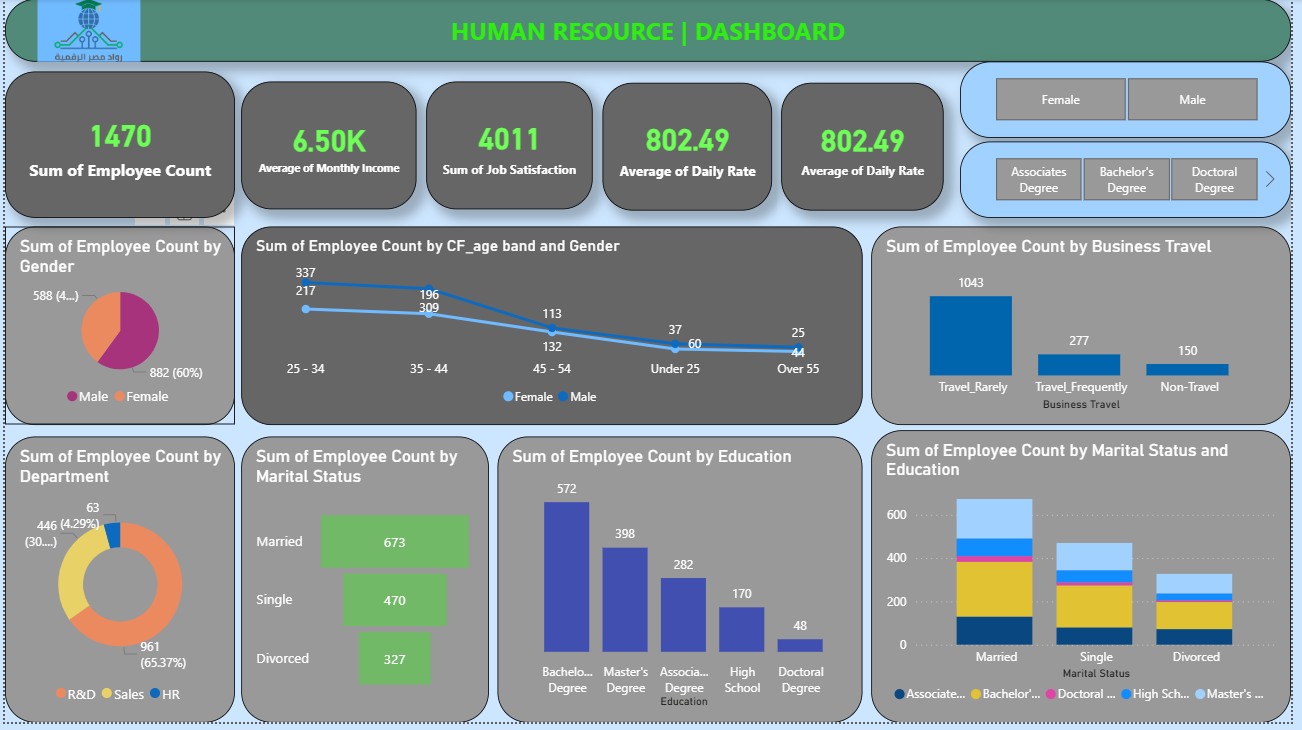

This screenshot's page, from the dashboard's own definition file:
{"tool":"powerbi","page":{"name":"dashbord2","canvas":[1280,720],"ordinal":1},"visuals":[{"type":"pieChart","fields":{"Category":["HR.Gender"],"Y":["Sum(HR.Employee Count)"]},"box":[0,226.4,228.9,197.8],"z":0},{"type":"donutChart","fields":{"Y":["Sum(HR.Employee Count)"],"Category":["HR.Department"]},"box":[0,435.4,228.9,284.9],"z":1000},{"type":"textbox","box":[0,0,1280,62],"z":2000},{"type":"card","fields":{"Values":["Sum(HR.Employee Count)"]},"box":[0,72.1,228.9,145.5],"z":3000},{"type":"card","fields":{"Values":["Avg(HR.Monthly Income)"]},"box":[235.1,82.1,174.2,126.9],"z":4000},{"type":"card","fields":{"Values":["Sum(HR.Job Satisfaction)"]},"box":[419.2,82.1,165.4,126.9],"z":5000},{"type":"card","fields":{"Values":["Avg(HR.Daily Rate)"]},"box":[594.1,82.8,169.2,126.9],"z":6000},{"type":"card","fields":{"Values":["Avg(HR.Daily Rate)"]},"box":[772,82.8,161.7,126.9],"z":7000},{"type":"lineChart","fields":{"Category":["HR.CF_age band"],"Series":["HR.Gender"],"Y":["Sum(HR.Employee Count)"]},"box":[235.1,226.4,618.2,197.8],"z":8000},{"type":"funnel","fields":{"Category":["HR.Marital Status"],"Y":["Sum(HR.Employee Count)"]},"box":[235.1,435.4,246.3,284.9],"z":9000},{"type":"columnChart","fields":{"Category":["HR.Education"],"Y":["Sum(HR.Employee Count)"]},"box":[490.1,435.4,363.2,284.9],"z":10000},{"type":"columnChart","fields":{"Y":["Sum(HR.Employee Count)"],"Category":["HR.Business Travel"]},"box":[862.1,226.4,418,197.8],"z":11000},{"type":"columnChart","fields":{"Y":["Sum(HR.Employee Count)"],"Category":["HR.Marital Status"],"Series":["HR.Education"]},"box":[862,429.4,418,291],"z":12000},{"type":"slicer","fields":{"Values":["HR.Gender"]},"box":[950.4,62.2,329.6,75.9],"z":13000},{"type":"slicer","fields":{"Values":["HR.Education"]},"box":[950.4,141.8,329.6,75.9],"z":14000},{"type":"image","box":[32.3,0,102,62.2],"z":15000}]}

Visuals, with their boxes in screenshot pixels (x1, y1, x2, y2), scaled from the page's 1280x720 canvas onto the 1302x730 screenshot:
pieChart - HR.Gender x Sum(HR.Employee Count): pyautogui.locateOnScreen(0, 230, 233, 430)
donutChart - Sum(HR.Employee Count) x HR.Department: pyautogui.locateOnScreen(0, 441, 233, 729)
textbox: pyautogui.locateOnScreen(0, 0, 1301, 63)
card - Sum(HR.Employee Count): pyautogui.locateOnScreen(0, 73, 233, 221)
card - Avg(HR.Monthly Income): pyautogui.locateOnScreen(239, 83, 416, 212)
card - Sum(HR.Job Satisfaction): pyautogui.locateOnScreen(426, 83, 595, 212)
card - Avg(HR.Daily Rate): pyautogui.locateOnScreen(604, 84, 776, 213)
card - Avg(HR.Daily Rate): pyautogui.locateOnScreen(785, 84, 950, 213)
lineChart - HR.CF_age band x HR.Gender: pyautogui.locateOnScreen(239, 230, 868, 430)
funnel - HR.Marital Status x Sum(HR.Employee Count): pyautogui.locateOnScreen(239, 441, 490, 729)
columnChart - HR.Education x Sum(HR.Employee Count): pyautogui.locateOnScreen(499, 441, 868, 729)
columnChart - Sum(HR.Employee Count) x HR.Business Travel: pyautogui.locateOnScreen(877, 230, 1301, 430)
columnChart - Sum(HR.Employee Count) x HR.Marital Status: pyautogui.locateOnScreen(877, 435, 1301, 729)
slicer - HR.Gender: pyautogui.locateOnScreen(967, 63, 1301, 140)
slicer - HR.Education: pyautogui.locateOnScreen(967, 144, 1301, 221)
image: pyautogui.locateOnScreen(33, 0, 137, 63)
